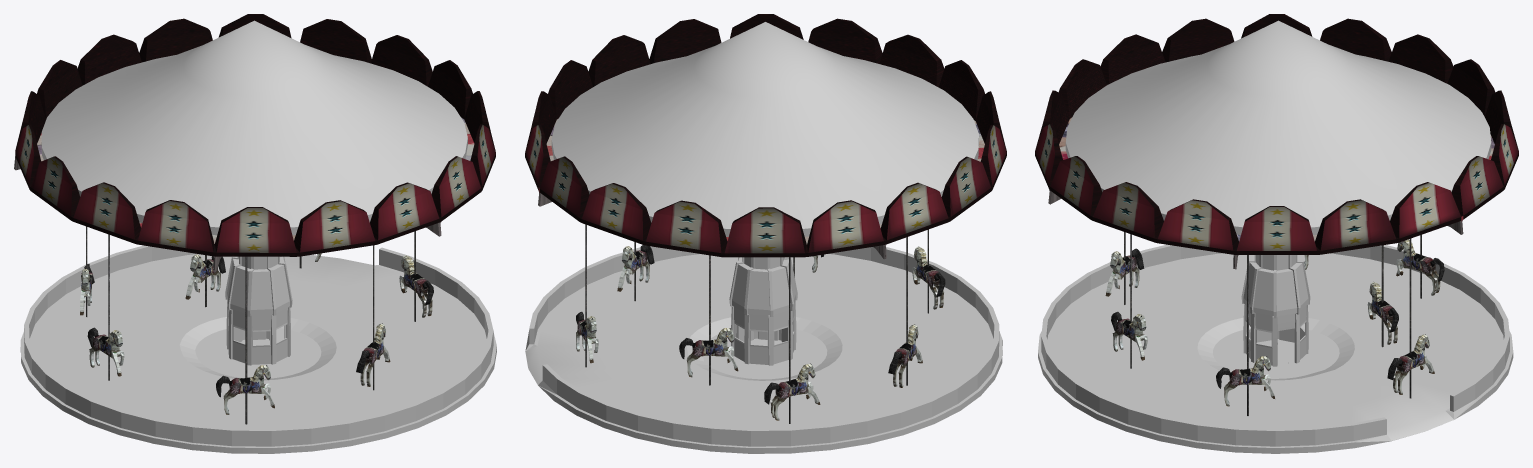
The model's file is Carousel2.fbx.
The picture shows the model from 3 angles, left to right: view 1: azimuth 30°, elevation 25°; view 2: azimuth 150°, elevation 25°; view 3: azimuth 270°, elevation 25°; orthographic projection.
Parts seen in each view (by area): view 1: Cylinder010, Cylinder006, Cylinder004, Plane009, Plane005, Plane011, Plane014, Plane010, Plane013; view 2: Cylinder010, Cylinder006, Cylinder004, Plane013, Plane014, Plane011, Plane009, Plane005, Plane012; view 3: Cylinder010, Cylinder006, Cylinder004, Plane011, Plane012, Plane013, Plane010, Plane009, Plane014.
Part boxes in pixels (x1=…): Cylinder010: x1=14, y1=14, x2=495, y2=270; Cylinder006: x1=20, y1=245, x2=496, y2=453; Cylinder004: x1=225, y1=256, x2=292, y2=365; Plane009: x1=216, y1=365, x2=274, y2=414; Plane005: x1=87, y1=327, x2=124, y2=376; Plane011: x1=399, y1=255, x2=433, y2=317; Plane014: x1=185, y1=254, x2=225, y2=299; Plane010: x1=356, y1=323, x2=390, y2=386; Plane013: x1=80, y1=264, x2=94, y2=315; Cylinder010: x1=525, y1=14, x2=1006, y2=259; Cylinder006: x1=525, y1=246, x2=1002, y2=453; Cylinder004: x1=729, y1=257, x2=797, y2=365; Plane013: x1=764, y1=363, x2=820, y2=420; Plane014: x1=679, y1=328, x2=738, y2=377; Plane011: x1=617, y1=245, x2=654, y2=291; Plane009: x1=912, y1=246, x2=945, y2=309; Plane005: x1=888, y1=324, x2=922, y2=387; Plane012: x1=576, y1=311, x2=598, y2=363; Cylinder010: x1=1035, y1=14, x2=1518, y2=269; Cylinder006: x1=1038, y1=244, x2=1513, y2=453; Cylinder004: x1=1241, y1=255, x2=1310, y2=366; Plane011: x1=1216, y1=356, x2=1274, y2=406; Plane012: x1=1387, y1=334, x2=1434, y2=394; Plane013: x1=1396, y1=239, x2=1444, y2=295; Plane010: x1=1111, y1=311, x2=1147, y2=360; Plane009: x1=1105, y1=248, x2=1144, y2=296; Plane014: x1=1367, y1=281, x2=1398, y2=344.
Size of the model in its own units: 1104 by 850 by 1122.
